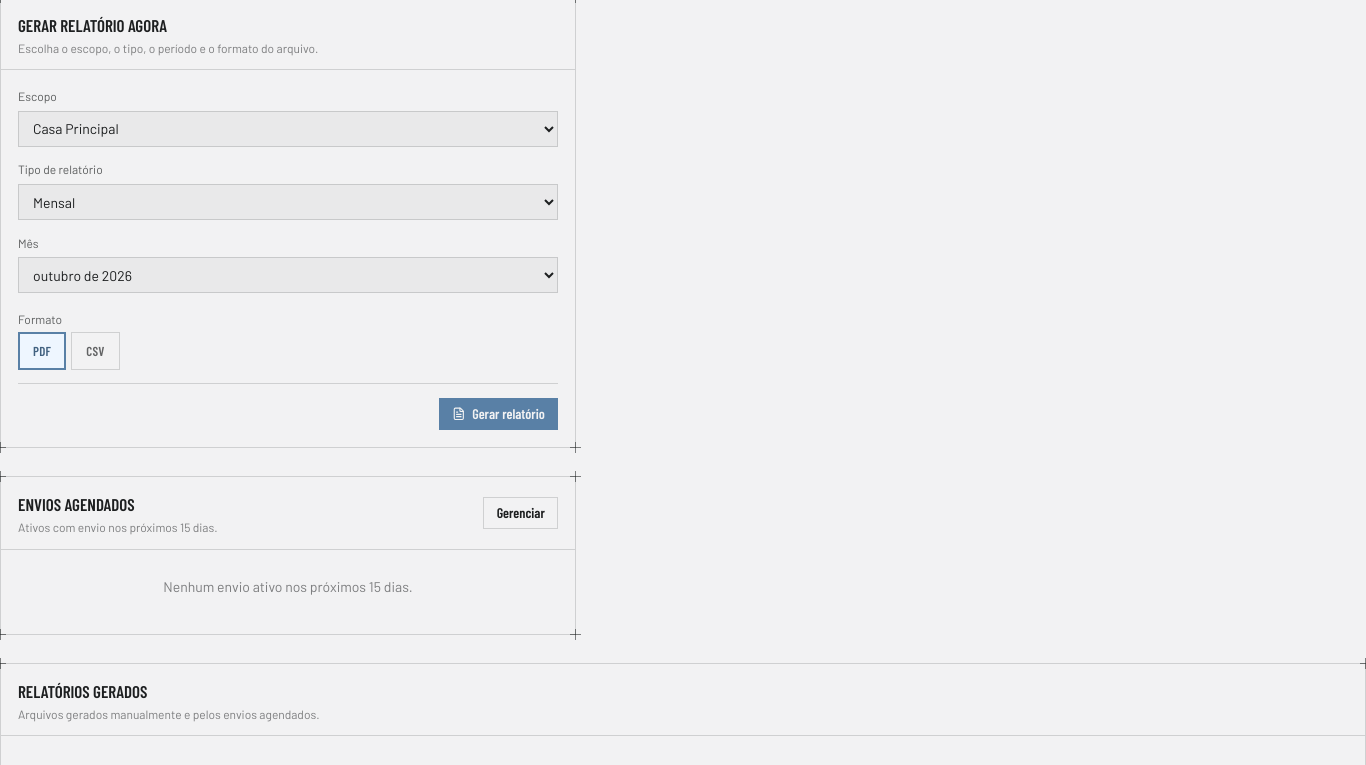
Test: ReportsPage › mostra o histórico e atualiza a lista depois de gerar
Click the button "Gerar relatório" at (498, 414), box top-left (439, 398), bottom-right (558, 430)
(page scrolled)
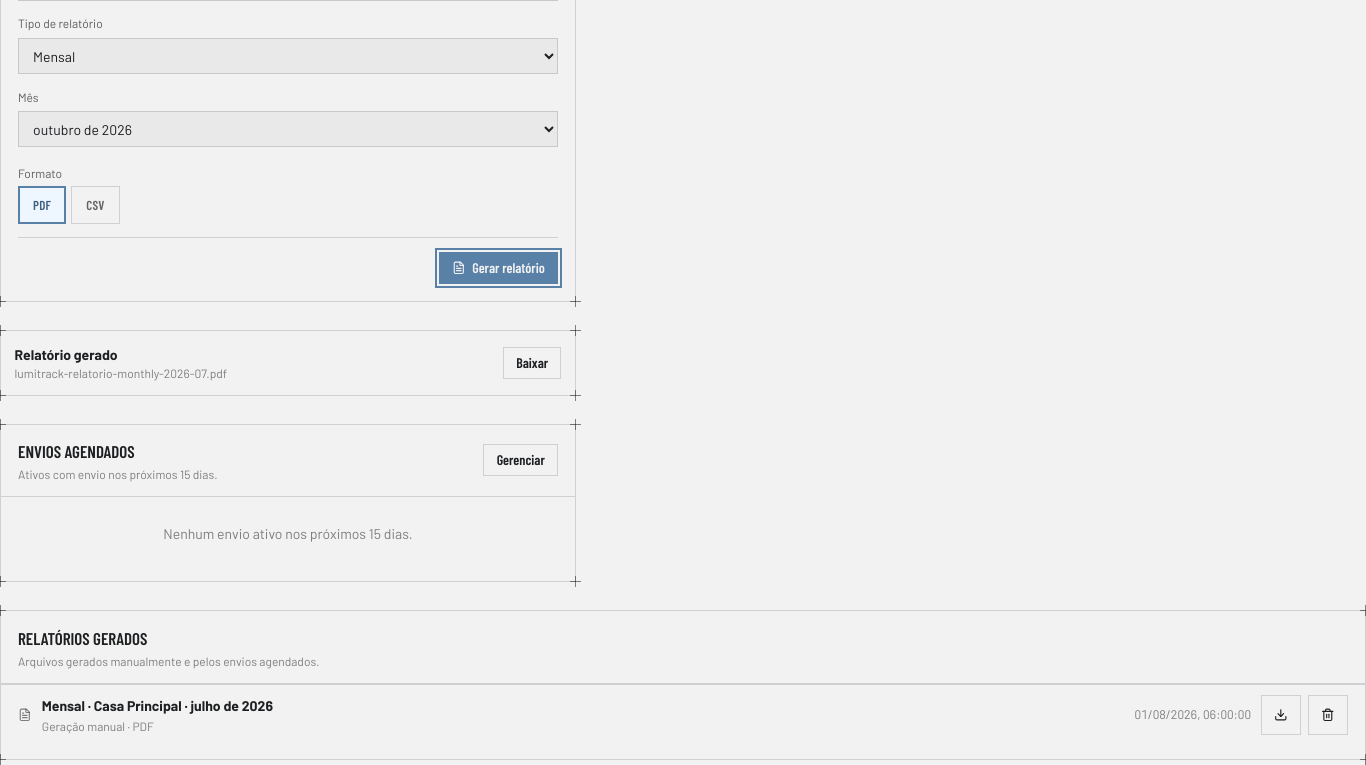
Expected: the text "Mensal · Casa Principal · julho de 2026" is shown, top-left (42, 697), bottom-right (273, 714)
